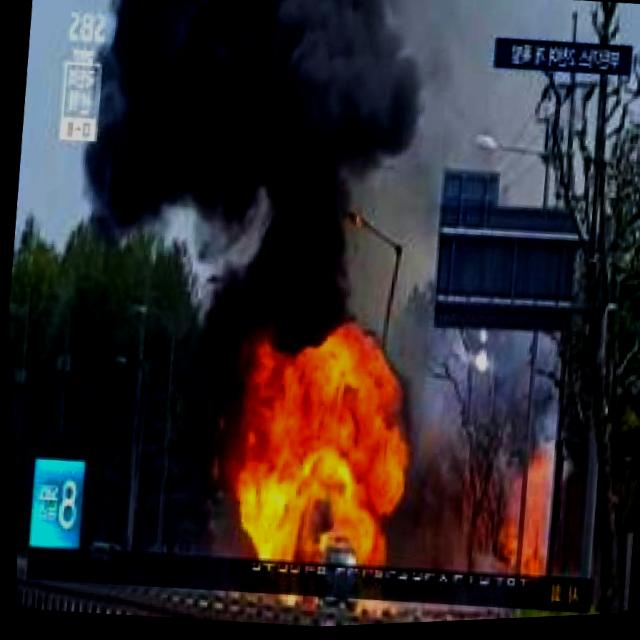helmet: (222, 330, 409, 582)
no_helmet: (58, 0, 439, 360)
